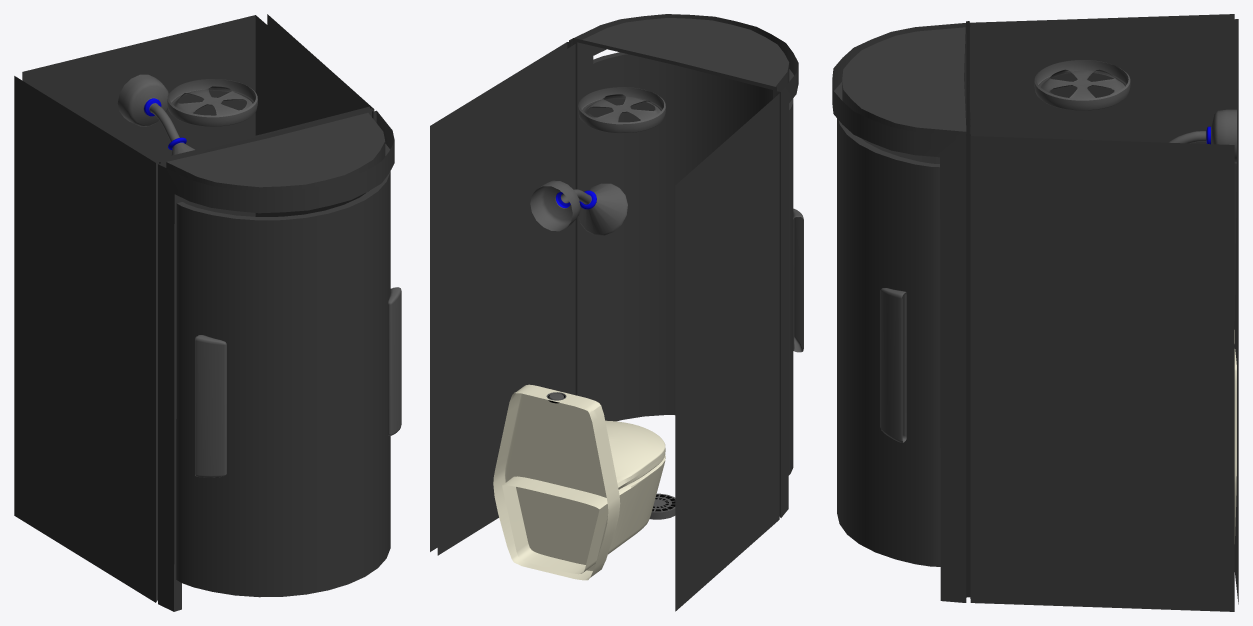
Rendered from Stall.fbx.
3 views of the same model, side by side, from view 1: azimuth 30°, elevation 25°; view 2: azimuth 150°, elevation 25°; view 3: azimuth 270°, elevation 25° (orthographic). The views are drawn at different scales.
Parts seen in each view (by area): view 1: Body, DoorR, DoorL, Vent, ShowerHead; view 2: Body, DoorR, Basin, ShowerHead, Vent, Lid, DoorL, Drain; view 3: Body, DoorL, Vent, ShowerHead, Basin.
Part boxes in pixels (x1,y1,x2,y2): Body: (14, 14, 394, 611); DoorR: (176, 172, 389, 597); DoorL: (177, 171, 401, 589); Vent: (167, 79, 257, 126); ShowerHead: (117, 74, 194, 155); Body: (430, 14, 798, 611); DoorR: (592, 53, 803, 475); Basin: (493, 384, 665, 580); ShowerHead: (530, 180, 627, 235); Vent: (578, 87, 665, 133); Lid: (605, 420, 665, 489); DoorL: (593, 52, 793, 136); Drain: (649, 493, 675, 519); Body: (832, 14, 1238, 611); DoorL: (837, 118, 940, 566); Vent: (1034, 60, 1130, 110); ShowerHead: (1168, 109, 1236, 163); Basin: (1234, 330, 1236, 543).
Bounding box in the file's own units: 6.93 × 11.75 × 9.09.
